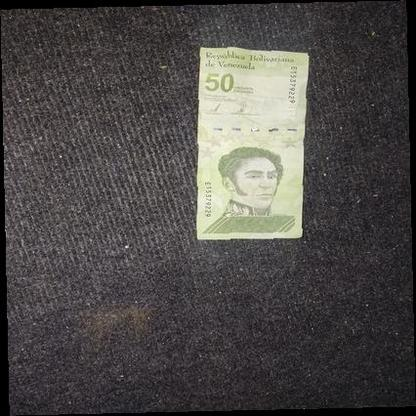fifty-front-vef: (196, 46, 309, 240)
